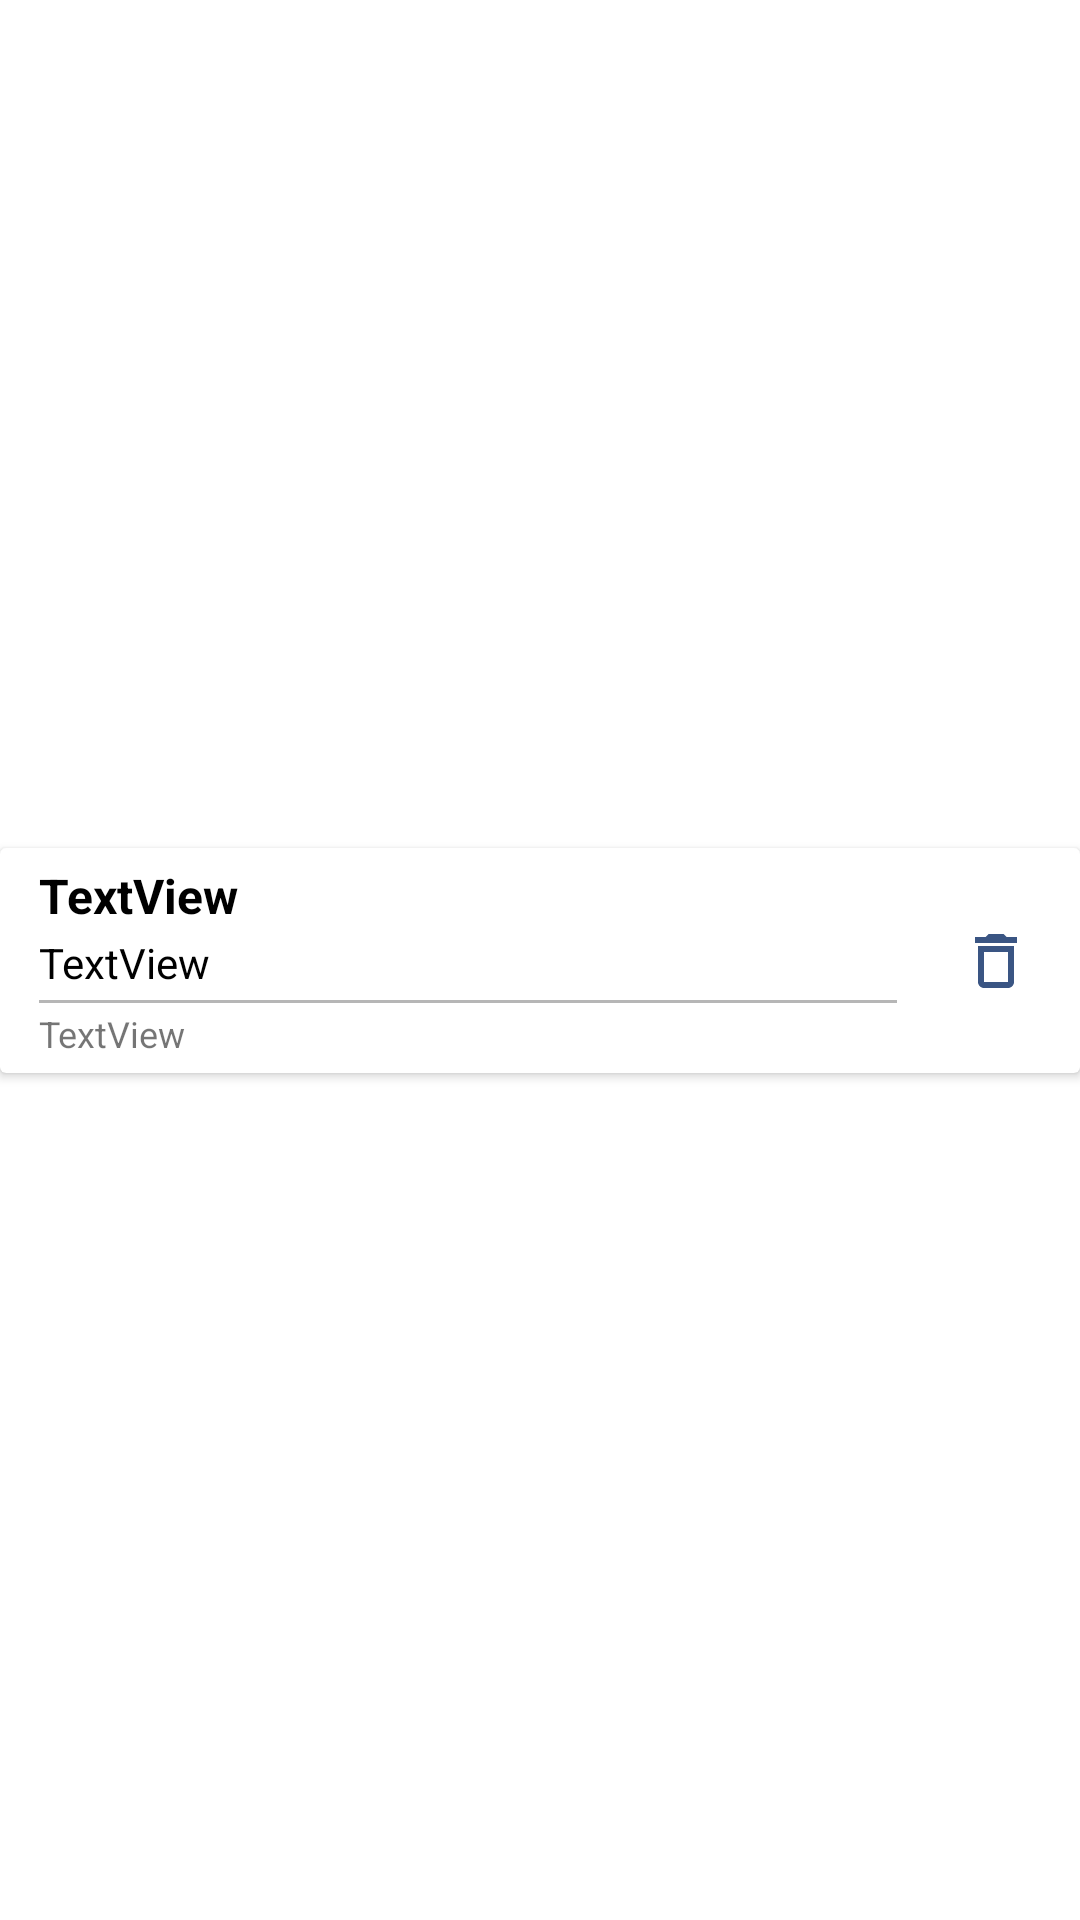

Icons on this 1080×1920 Android screen, each with its box as (x1, y1, x2, y2):
delete: (975, 934, 1017, 988)
